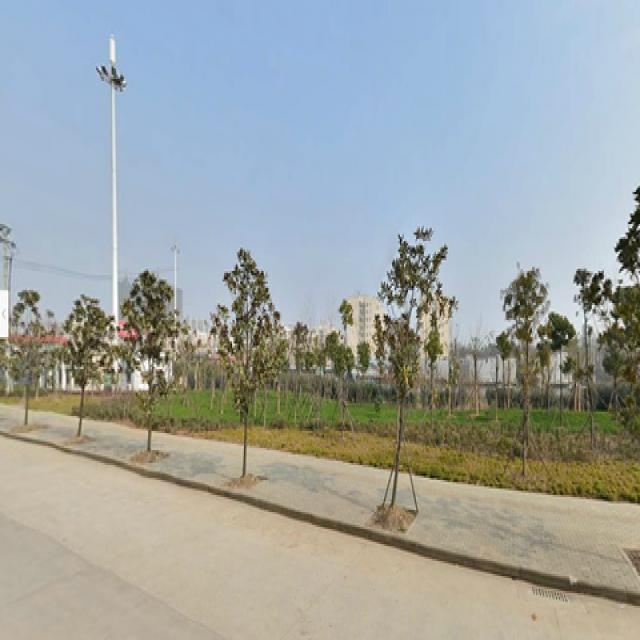magn: (389, 237, 434, 516), (217, 260, 268, 467), (133, 271, 183, 459), (4, 292, 45, 412), (56, 299, 93, 416)
